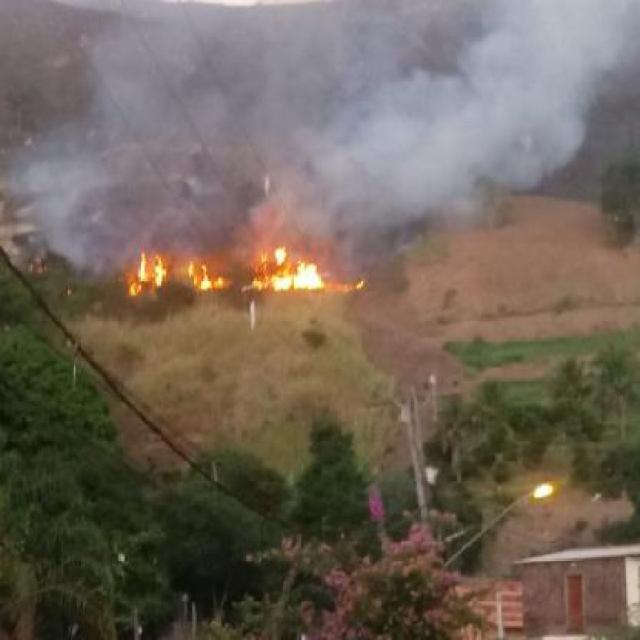Fire: (124, 253, 220, 299), (250, 253, 328, 292)
